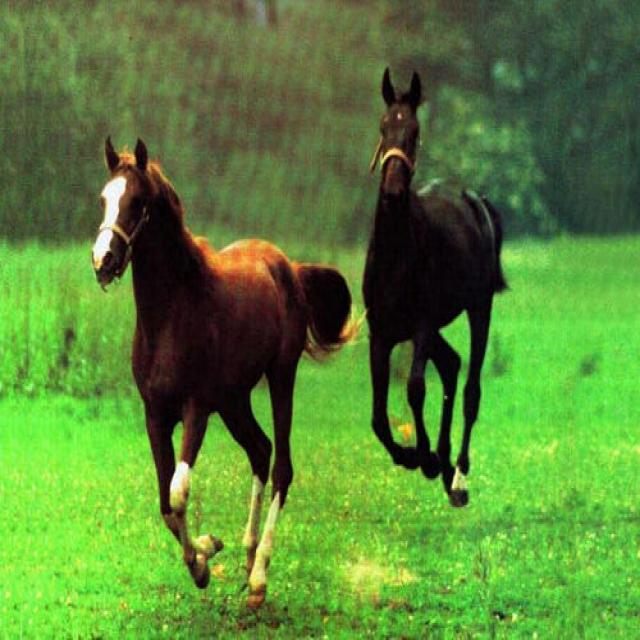horse: (91, 133, 352, 616), (361, 68, 512, 510)
